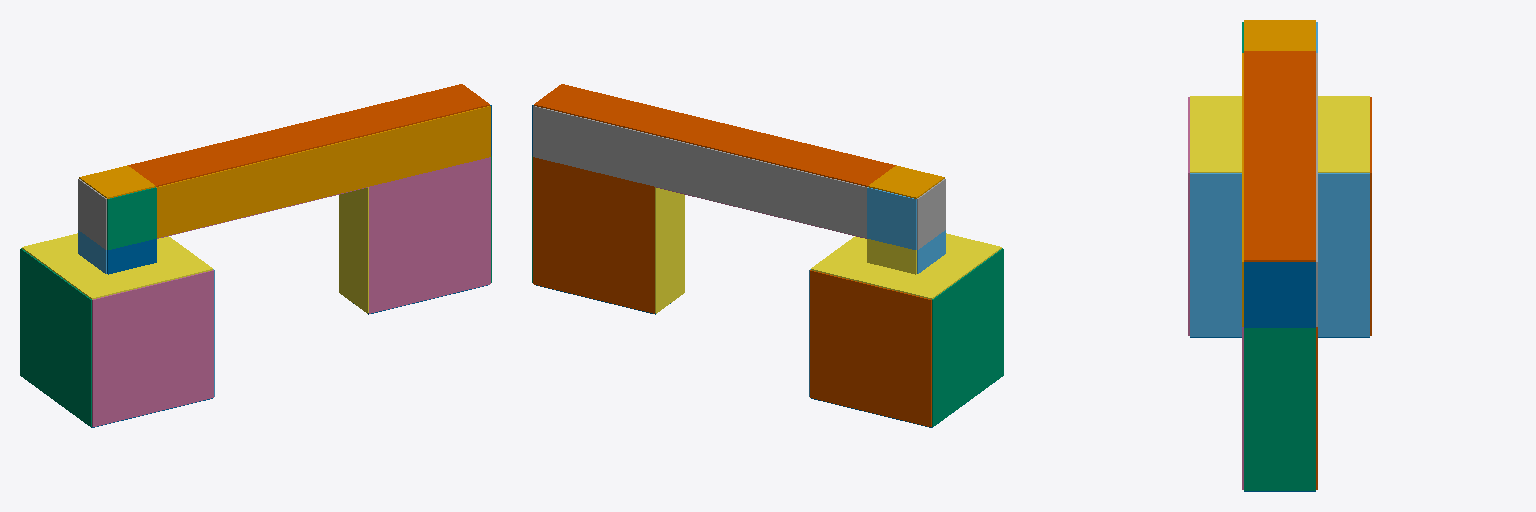
--- Facts derived from the render (not from the file) ---
Views: 3 orthographic renders of the robot side by side, from view 1: azimuth 30°, elevation 25°; view 2: azimuth 150°, elevation 25°; view 3: azimuth 270°, elevation 25°.
Model robot with 53 links and 52 joints (2 continuous, 50 fixed), rooted at body, posed every joint at zero.
Visible links, largest first — view 1: arm_sensor_0_right, body_sensor_0_right, hand_1_sensor_0_right, arm_sensor_0_top, body_sensor_0_stop, body_sensor_0_top, hand_1_sensor_0_stop, joint_2_sensor_0_right, joint_2_sensor_0_stop, joint_2_sensor_0_top, joint_1_sensor_0_right, joint_1_sensor_0_stop; view 2: arm_sensor_0_left, body_sensor_0_left, hand_1_sensor_0_left, arm_sensor_0_top, body_sensor_0_stop, body_sensor_0_top, hand_1_sensor_0_stop, joint_2_sensor_0_left, joint_2_sensor_0_stop, joint_2_sensor_0_top, joint_1_sensor_0_left, joint_1_sensor_0_stop; view 3: body_sensor_0_start, arm_sensor_0_top, hand_1_sensor_0_start, body_sensor_0_top, arm_sensor_0_start, joint_2_sensor_0_top, arm_sensor_0_left, arm_sensor_0_right.
Link boxes in pixels (left/top/right/bottom): arm_sensor_0_right: left=156, top=106, right=490, bottom=237; body_sensor_0_right: left=92, top=270, right=213, bottom=426; hand_1_sensor_0_right: left=369, top=157, right=490, bottom=313; arm_sensor_0_top: left=128, top=84, right=489, bottom=186; body_sensor_0_stop: left=20, top=248, right=91, bottom=426; body_sensor_0_top: left=22, top=233, right=212, bottom=299; hand_1_sensor_0_stop: left=339, top=187, right=368, bottom=313; joint_2_sensor_0_right: left=107, top=187, right=156, bottom=249; joint_2_sensor_0_stop: left=78, top=179, right=106, bottom=249; joint_2_sensor_0_top: left=79, top=165, right=155, bottom=198; joint_1_sensor_0_right: left=107, top=239, right=156, bottom=274; joint_1_sensor_0_stop: left=78, top=230, right=106, bottom=273; arm_sensor_0_left: left=533, top=106, right=867, bottom=237; body_sensor_0_left: left=810, top=270, right=931, bottom=426; hand_1_sensor_0_left: left=533, top=157, right=654, bottom=313; arm_sensor_0_top: left=534, top=84, right=895, bottom=186; body_sensor_0_stop: left=932, top=248, right=1003, bottom=426; body_sensor_0_top: left=811, top=233, right=1001, bottom=299; hand_1_sensor_0_stop: left=655, top=187, right=684, bottom=313; joint_2_sensor_0_left: left=867, top=187, right=916, bottom=249; joint_2_sensor_0_stop: left=917, top=179, right=945, bottom=249; joint_2_sensor_0_top: left=868, top=165, right=944, bottom=198; joint_1_sensor_0_left: left=867, top=239, right=916, bottom=274; joint_1_sensor_0_stop: left=917, top=230, right=945, bottom=273; body_sensor_0_start: left=1190, top=173, right=1369, bottom=336; arm_sensor_0_top: left=1244, top=51, right=1315, bottom=261; hand_1_sensor_0_start: left=1244, top=328, right=1315, bottom=490; body_sensor_0_top: left=1190, top=96, right=1369, bottom=172; arm_sensor_0_start: left=1244, top=262, right=1315, bottom=327; joint_2_sensor_0_top: left=1244, top=20, right=1315, bottom=50; arm_sensor_0_left: left=1316, top=53, right=1317, bottom=326; arm_sensor_0_right: left=1242, top=53, right=1243, bottom=326.
Bounding box of the posed robot: 3.47 × 1.02 × 1.62 m (x, y, z).
Geometry: primitives only (box / cylinder / sphere), no mesh files.

robot.urdf — robot:
<?xml version="1.0"?>
    <robot name="robot">


    <!-- body -->
    <link name="body">
        <inertial>
            <origin xyz="0 0 0" rpy="0 0 0"/>
            <mass value="100"/>
            <inertia ixx=".1" ixy=".1" ixz=".1" iyy=".1" iyz=".1" izz=".1"/>
        </inertial>
        <visual>
            <origin xyz="0 0 0" rpy="0 0 0"/>
            <geometry>
                <box size="1 1 1"/>
            </geometry>
        </visual>
        <collision>
            <origin xyz="0 0 0" rpy="0 0 0"/>
            <geometry>
                <box size="1 1 1"/>
            </geometry>
        </collision>
    </link>


    <!-- body_sensor_0_start -->
    <link name="body_sensor_0_start">
        <inertial>
            <origin xyz="0 0 0" rpy="0 0 0"/>
            <mass value="0"/>
            <inertia ixx=".1" ixy=".1" ixz=".1" iyy=".1" iyz=".1" izz=".1"/>
        </inertial>
        <visual>
            <origin xyz="0 0 0" rpy="0 0 0"/>
            <geometry>
                <box size="0.02 1 1"/>
            </geometry>
        </visual>
        <collision>
            <origin xyz="0 0 0" rpy="0 0 0"/>
            <geometry>
                <box size="0.02 1 1"/>
            </geometry>
        </collision>
    </link>
    <!-- Joint: body, body_sensor_0_start -->
    <joint name="body_body_sensor_0_start_joint" type="fixed">
        <parent link="body"/>
        <child link="body_sensor_0_start"/>
        <origin xyz="0.5 0 0"
                rpy="0 0 0"/>
        <axis xyz="0 0 1"/>
        
    </joint>


    <!-- body_sensor_0_stop -->
    <link name="body_sensor_0_stop">
        <inertial>
            <origin xyz="0 0 0" rpy="0 0 0"/>
            <mass value="0"/>
            <inertia ixx=".1" ixy=".1" ixz=".1" iyy=".1" iyz=".1" izz=".1"/>
        </inertial>
        <visual>
            <origin xyz="0 0 0" rpy="0 0 0"/>
            <geometry>
                <box size="0.02 1 1"/>
            </geometry>
        </visual>
        <collision>
            <origin xyz="0 0 0" rpy="0 0 0"/>
            <geometry>
                <box size="0.02 1 1"/>
            </geometry>
        </collision>
    </link>
    <!-- Joint: body, body_sensor_0_stop -->
    <joint name="body_body_sensor_0_stop_joint" type="fixed">
        <parent link="body"/>
        <child link="body_sensor_0_stop"/>
        <origin xyz="-0.5 0 0"
                rpy="0 0 0"/>
        <axis xyz="0 0 1"/>
        
    </joint>


    <!-- body_sensor_0_top -->
    <link name="body_sensor_0_top">
        <inertial>
            <origin xyz="0 0 0" rpy="0 0 0"/>
            <mass value="0"/>
            <inertia ixx=".1" ixy=".1" ixz=".1" iyy=".1" iyz=".1" izz=".1"/>
        </inertial>
        <visual>
            <origin xyz="0 0 0" rpy="0 0 0"/>
            <geometry>
                <box size="1.0 1 0.02"/>
            </geometry>
        </visual>
        <collision>
            <origin xyz="0 0 0" rpy="0 0 0"/>
            <geometry>
                <box size="1.0 1 0.02"/>
            </geometry>
        </collision>
    </link>
    <!-- Joint: body, body_sensor_0_top -->
    <joint name="body_body_sensor_0_top_joint" type="fixed">
        <parent link="body"/>
        <child link="body_sensor_0_top"/>
        <origin xyz="0 0 0.5"
                rpy="0 0 0"/>
        <axis xyz="0 0 1"/>
        
    </joint>


    <!-- body_sensor_0_bottom -->
    <link name="body_sensor_0_bottom">
        <inertial>
            <origin xyz="0 0 0" rpy="0 0 0"/>
            <mass value="0"/>
            <inertia ixx=".1" ixy=".1" ixz=".1" iyy=".1" iyz=".1" izz=".1"/>
        </inertial>
        <visual>
            <origin xyz="0 0 0" rpy="0 0 0"/>
            <geometry>
                <box size="1.0 1 0.02"/>
            </geometry>
        </visual>
        <collision>
            <origin xyz="0 0 0" rpy="0 0 0"/>
            <geometry>
                <box size="1.0 1 0.02"/>
            </geometry>
        </collision>
    </link>
    <!-- Joint: body, body_sensor_0_bottom -->
    <joint name="body_body_sensor_0_bottom_joint" type="fixed">
        <parent link="body"/>
        <child link="body_sensor_0_bottom"/>
        <origin xyz="0 0 -0.5"
                rpy="0 0 0"/>
        <axis xyz="0 0 1"/>
        
    </joint>


    <!-- body_sensor_0_left -->
    <link name="body_sensor_0_left">
        <inertial>
            <origin xyz="0 0 0" rpy="0 0 0"/>
            <mass value="0"/>
            <inertia ixx=".1" ixy=".1" ixz=".1" iyy=".1" iyz=".1" izz=".1"/>
        </inertial>
        <visual>
            <origin xyz="0 0 0" rpy="0 0 0"/>
            <geometry>
                <box size="1.0 0.02 1"/>
            </geometry>
        </visual>
        <collision>
            <origin xyz="0 0 0" rpy="0 0 0"/>
            <geometry>
                <box size="1.0 0.02 1"/>
            </geometry>
        </collision>
    </link>
    <!-- Joint: body, body_sensor_0_left -->
    <joint name="body_body_sensor_0_left_joint" type="fixed">
        <parent link="body"/>
        <child link="body_sensor_0_left"/>
        <origin xyz="0 0.5 0"
                rpy="0 0 0"/>
        <axis xyz="0 0 1"/>
        
    </joint>


    <!-- body_sensor_0_right -->
    <link name="body_sensor_0_right">
        <inertial>
            <origin xyz="0 0 0" rpy="0 0 0"/>
            <mass value="0"/>
            <inertia ixx=".1" ixy=".1" ixz=".1" iyy=".1" iyz=".1" izz=".1"/>
        </inertial>
        <visual>
            <origin xyz="0 0 0" rpy="0 0 0"/>
            <geometry>
                <box size="1.0 0.02 1"/>
            </geometry>
        </visual>
        <collision>
            <origin xyz="0 0 0" rpy="0 0 0"/>
            <geometry>
                <box size="1.0 0.02 1"/>
            </geometry>
        </collision>
    </link>
    <!-- Joint: body, body_sensor_0_right -->
    <joint name="body_body_sensor_0_right_joint" type="fixed">
        <parent link="body"/>
        <child link="body_sensor_0_right"/>
        <origin xyz="0 -0.5 0"
                rpy="0 0 0"/>
        <axis xyz="0 0 1"/>
        
    </joint>


    <!-- joint_1 -->
    <link name="joint_1">
        <inertial>
            <origin xyz="0 0 0" rpy="0 0 0"/>
            <mass value="2"/>
            <inertia ixx=".1" ixy=".1" ixz=".1" iyy=".1" iyz=".1" izz=".1"/>
        </inertial>
        <visual>
            <origin xyz="0 0 0" rpy="0 0 0"/>
            <geometry>
                <box size="0.4 0.4 0.2"/>
            </geometry>
        </visual>
        <collision>
            <origin xyz="0 0 0" rpy="0 0 0"/>
            <geometry>
                <box size="0.4 0.4 0.2"/>
            </geometry>
        </collision>
    </link>


    <!-- joint_1_sensor_0_start -->
    <link name="joint_1_sensor_0_start">
        <inertial>
            <origin xyz="0 0 0" rpy="0 0 0"/>
            <mass value="0"/>
            <inertia ixx=".1" ixy=".1" ixz=".1" iyy=".1" iyz=".1" izz=".1"/>
        </inertial>
        <visual>
            <origin xyz="0 0 0" rpy="0 0 0"/>
            <geometry>
                <box size="0.02 0.4 0.2"/>
            </geometry>
        </visual>
        <collision>
            <origin xyz="0 0 0" rpy="0 0 0"/>
            <geometry>
                <box size="0.02 0.4 0.2"/>
            </geometry>
        </collision>
    </link>
    <!-- Joint: joint_1, joint_1_sensor_0_start -->
    <joint name="joint_1_joint_1_sensor_0_start_joint" type="fixed">
        <parent link="joint_1"/>
        <child link="joint_1_sensor_0_start"/>
        <origin xyz="0.2 0 0"
                rpy="0 0 0"/>
        <axis xyz="0 0 1"/>
        
    </joint>


    <!-- joint_1_sensor_0_stop -->
    <link name="joint_1_sensor_0_stop">
        <inertial>
            <origin xyz="0 0 0" rpy="0 0 0"/>
            <mass value="0"/>
            <inertia ixx=".1" ixy=".1" ixz=".1" iyy=".1" iyz=".1" izz=".1"/>
        </inertial>
        <visual>
            <origin xyz="0 0 0" rpy="0 0 0"/>
            <geometry>
                <box size="0.02 0.4 0.2"/>
            </geometry>
        </visual>
        <collision>
            <origin xyz="0 0 0" rpy="0 0 0"/>
            <geometry>
                <box size="0.02 0.4 0.2"/>
            </geometry>
        </collision>
    </link>
    <!-- Joint: joint_1, joint_1_sensor_0_stop -->
    <joint name="joint_1_joint_1_sensor_0_stop_joint" type="fixed">
        <parent link="joint_1"/>
        <child link="joint_1_sensor_0_stop"/>
        <origin xyz="-0.2 0 0"
                rpy="0 0 0"/>
        <axis xyz="0 0 1"/>
        
    </joint>


    <!-- joint_1_sensor_0_top -->
    <link name="joint_1_sensor_0_top">
        <inertial>
            <origin xyz="0 0 0" rpy="0 0 0"/>
            <mass value="0"/>
            <inertia ixx=".1" ixy=".1" ixz=".1" iyy=".1" iyz=".1" izz=".1"/>
        </inertial>
        <visual>
            <origin xyz="0 0 0" rpy="0 0 0"/>
            <geometry>
                <box size="0.4 0.4 0.02"/>
            </geometry>
        </visual>
        <collision>
            <origin xyz="0 0 0" rpy="0 0 0"/>
            <geometry>
                <box size="0.4 0.4 0.02"/>
            </geometry>
        </collision>
    </link>
    <!-- Joint: joint_1, joint_1_sensor_0_top -->
    <joint name="joint_1_joint_1_sensor_0_top_joint" type="fixed">
        <parent link="joint_1"/>
        <child link="joint_1_sensor_0_top"/>
        <origin xyz="0 0 0.1"
                rpy="0 0 0"/>
        <axis xyz="0 0 1"/>
        
    </joint>


    <!-- joint_1_sensor_0_left -->
    <link name="joint_1_sensor_0_left">
        <inertial>
            <origin xyz="0 0 0" rpy="0 0 0"/>
            <mass value="0"/>
            <inertia ixx=".1" ixy=".1" ixz=".1" iyy=".1" iyz=".1" izz=".1"/>
        </inertial>
        <visual>
            <origin xyz="0 0 0" rpy="0 0 0"/>
            <geometry>
                <box size="0.4 0.02 0.2"/>
            </geometry>
        </visual>
        <collision>
            <origin xyz="0 0 0" rpy="0 0 0"/>
            <geometry>
                <box size="0.4 0.02 0.2"/>
            </geometry>
        </collision>
    </link>
    <!-- Joint: joint_1, joint_1_sensor_0_left -->
    <joint name="joint_1_joint_1_sensor_0_left_joint" type="fixed">
        <parent link="joint_1"/>
        <child link="joint_1_sensor_0_left"/>
        <origin xyz="0 0.2 0"
                rpy="0 0 0"/>
        <axis xyz="0 0 1"/>
        
    </joint>


    <!-- joint_1_sensor_0_right -->
    <link name="joint_1_sensor_0_right">
        <inertial>
            <origin xyz="0 0 0" rpy="0 0 0"/>
            <mass value="0"/>
            <inertia ixx=".1" ixy=".1" ixz=".1" iyy=".1" iyz=".1" izz=".1"/>
        </inertial>
        <visual>
            <origin xyz="0 0 0" rpy="0 0 0"/>
            <geometry>
                <box size="0.4 0.02 0.2"/>
            </geometry>
        </visual>
        <collision>
            <origin xyz="0 0 0" rpy="0 0 0"/>
            <geometry>
                <box size="0.4 0.02 0.2"/>
            </geometry>
        </collision>
    </link>
    <!-- Joint: joint_1, joint_1_sensor_0_right -->
    <joint name="joint_1_joint_1_sensor_0_right_joint" type="fixed">
        <parent link="joint_1"/>
        <child link="joint_1_sensor_0_right"/>
        <origin xyz="0 -0.2 0"
                rpy="0 0 0"/>
        <axis xyz="0 0 1"/>
        
    </joint>
    <!-- Joint: body, joint_1 -->
    <joint name="body_joint_1_joint" type="continuous">
        <parent link="body"/>
        <child link="joint_1"/>
        <origin xyz="0 0 0.6"
                rpy="0 0 0"/>
        <axis xyz="0 0 1"/>
        <limit lower="0" upper="0" effort="0" velocity="0"/>
    </joint>


    <!-- joint_2 -->
    <link name="joint_2">
        <inertial>
            <origin xyz="0 0 0" rpy="0 0 0"/>
            <mass value="2"/>
            <inertia ixx=".1" ixy=".1" ixz=".1" iyy=".1" iyz=".1" izz=".1"/>
        </inertial>
        <visual>
            <origin xyz="0 0 0" rpy="0 0 0"/>
            <geometry>
                <box size="0.4 0.4 0.4"/>
            </geometry>
        </visual>
        <collision>
            <origin xyz="0 0 0" rpy="0 0 0"/>
            <geometry>
                <box size="0.4 0.4 0.4"/>
            </geometry>
        </collision>
    </link>


    <!-- joint_2_sensor_0_start -->
    <link name="joint_2_sensor_0_start">
        <inertial>
            <origin xyz="0 0 0" rpy="0 0 0"/>
            <mass value="0"/>
            <inertia ixx=".1" ixy=".1" ixz=".1" iyy=".1" iyz=".1" izz=".1"/>
        </inertial>
        <visual>
            <origin xyz="0 0 0" rpy="0 0 0"/>
            <geometry>
                <box size="0.02 0.4 0.4"/>
            </geometry>
        </visual>
        <collision>
            <origin xyz="0 0 0" rpy="0 0 0"/>
            <geometry>
                <box size="0.02 0.4 0.4"/>
            </geometry>
        </collision>
    </link>
    <!-- Joint: joint_2, joint_2_sensor_0_start -->
    <joint name="joint_2_joint_2_sensor_0_start_joint" type="fixed">
        <parent link="joint_2"/>
        <child link="joint_2_sensor_0_start"/>
        <origin xyz="0.2 0 0"
                rpy="0 0 0"/>
        <axis xyz="0 1 0"/>
        
    </joint>


    <!-- joint_2_sensor_0_stop -->
    <link name="joint_2_sensor_0_stop">
        <inertial>
            <origin xyz="0 0 0" rpy="0 0 0"/>
            <mass value="0"/>
            <inertia ixx=".1" ixy=".1" ixz=".1" iyy=".1" iyz=".1" izz=".1"/>
        </inertial>
        <visual>
            <origin xyz="0 0 0" rpy="0 0 0"/>
            <geometry>
                <box size="0.02 0.4 0.4"/>
            </geometry>
        </visual>
        <collision>
            <origin xyz="0 0 0" rpy="0 0 0"/>
            <geometry>
                <box size="0.02 0.4 0.4"/>
            </geometry>
        </collision>
    </link>
    <!-- Joint: joint_2, joint_2_sensor_0_stop -->
    <joint name="joint_2_joint_2_sensor_0_stop_joint" type="fixed">
        <parent link="joint_2"/>
        <child link="joint_2_sensor_0_stop"/>
        <origin xyz="-0.2 0 0"
                rpy="0 0 0"/>
        <axis xyz="0 1 0"/>
        
    </joint>


    <!-- joint_2_sensor_0_top -->
    <link name="joint_2_sensor_0_top">
        <inertial>
            <origin xyz="0 0 0" rpy="0 0 0"/>
            <mass value="0"/>
            <inertia ixx=".1" ixy=".1" ixz=".1" iyy=".1" iyz=".1" izz=".1"/>
        </inertial>
        <visual>
            <origin xyz="0 0 0" rpy="0 0 0"/>
            <geometry>
                <box size="0.4 0.4 0.02"/>
            </geometry>
        </visual>
        <collision>
            <origin xyz="0 0 0" rpy="0 0 0"/>
            <geometry>
                <box size="0.4 0.4 0.02"/>
            </geometry>
        </collision>
    </link>
    <!-- Joint: joint_2, joint_2_sensor_0_top -->
    <joint name="joint_2_joint_2_sensor_0_top_joint" type="fixed">
        <parent link="joint_2"/>
        <child link="joint_2_sensor_0_top"/>
        <origin xyz="0 0 0.2"
                rpy="0 0 0"/>
        <axis xyz="0 1 0"/>
        
    </joint>


    <!-- joint_2_sensor_0_left -->
    <link name="joint_2_sensor_0_left">
        <inertial>
            <origin xyz="0 0 0" rpy="0 0 0"/>
            <mass value="0"/>
            <inertia ixx=".1" ixy=".1" ixz=".1" iyy=".1" iyz=".1" izz=".1"/>
        </inertial>
        <visual>
            <origin xyz="0 0 0" rpy="0 0 0"/>
            <geometry>
                <box size="0.4 0.02 0.4"/>
            </geometry>
        </visual>
        <collision>
            <origin xyz="0 0 0" rpy="0 0 0"/>
            <geometry>
                <box size="0.4 0.02 0.4"/>
            </geometry>
        </collision>
    </link>
    <!-- Joint: joint_2, joint_2_sensor_0_left -->
    <joint name="joint_2_joint_2_sensor_0_left_joint" type="fixed">
        <parent link="joint_2"/>
        <child link="joint_2_sensor_0_left"/>
        <origin xyz="0 0.2 0"
                rpy="0 0 0"/>
        <axis xyz="0 1 0"/>
        
    </joint>


    <!-- joint_2_sensor_0_right -->
    <link name="joint_2_sensor_0_right">
        <inertial>
            <origin xyz="0 0 0" rpy="0 0 0"/>
            <mass value="0"/>
            <inertia ixx=".1" ixy=".1" ixz=".1" iyy=".1" iyz=".1" izz=".1"/>
        </inertial>
        <visual>
            <origin xyz="0 0 0" rpy="0 0 0"/>
            <geometry>
                <box size="0.4 0.02 0.4"/>
            </geometry>
        </visual>
        <collision>
            <origin xyz="0 0 0" rpy="0 0 0"/>
            <geometry>
                <box size="0.4 0.02 0.4"/>
            </geometry>
        </collision>
    </link>
    <!-- Joint: joint_2, joint_2_sensor_0_right -->
    <joint name="joint_2_joint_2_sensor_0_right_joint" type="fixed">
        <parent link="joint_2"/>
        <child link="joint_2_sensor_0_right"/>
        <origin xyz="0 -0.2 0"
                rpy="0 0 0"/>
        <axis xyz="0 1 0"/>
        
    </joint>
    <!-- Joint: joint_1, joint_2 -->
    <joint name="joint_1_joint_2_joint" type="continuous">
        <parent link="joint_1"/>
        <child link="joint_2"/>
        <origin xyz="0 0 0.3"
                rpy="0 0 0"/>
        <axis xyz="0 1 0"/>
        <limit lower="0" upper="0" effort="0" velocity="0"/>
    </joint>


    <!-- arm -->
    <link name="arm">
        <inertial>
            <origin xyz="0 0 0" rpy="0 0 0"/>
            <mass value="2"/>
            <inertia ixx=".1" ixy=".1" ixz=".1" iyy=".1" iyz=".1" izz=".1"/>
        </inertial>
        <visual>
            <origin xyz="0 0 0" rpy="0 0 0"/>
            <geometry>
                <box size="2.75 0.4 0.4"/>
            </geometry>
        </visual>
        <collision>
            <origin xyz="0 0 0" rpy="0 0 0"/>
            <geometry>
                <box size="2.75 0.4 0.4"/>
            </geometry>
        </collision>
    </link>


    <!-- arm_sensor_0_start -->
    <link name="arm_sensor_0_start">
        <inertial>
            <origin xyz="0 0 0" rpy="0 0 0"/>
            <mass value="0"/>
            <inertia ixx=".1" ixy=".1" ixz=".1" iyy=".1" iyz=".1" izz=".1"/>
        </inertial>
        <visual>
            <origin xyz="0 0 0" rpy="0 0 0"/>
            <geometry>
                <box size="0.02 0.4 0.4"/>
            </geometry>
        </visual>
        <collision>
            <origin xyz="0 0 0" rpy="0 0 0"/>
            <geometry>
                <box size="0.02 0.4 0.4"/>
            </geometry>
        </collision>
    </link>
    <!-- Joint: arm, arm_sensor_0_start -->
    <joint name="arm_arm_sensor_0_start_joint" type="fixed">
        <parent link="arm"/>
        <child link="arm_sensor_0_start"/>
        <origin xyz="1.375 0 0"
                rpy="0 0 0"/>
        <axis xyz="0 1 0"/>
        
    </joint>


    <!-- arm_sensor_0_top -->
    <link name="arm_sensor_0_top">
        <inertial>
            <origin xyz="0 0 0" rpy="0 0 0"/>
            <mass value="0"/>
            <inertia ixx=".1" ixy=".1" ixz=".1" iyy=".1" iyz=".1" izz=".1"/>
        </inertial>
        <visual>
            <origin xyz="0 0 0" rpy="0 0 0"/>
            <geometry>
                <box size="2.75 0.4 0.02"/>
            </geometry>
        </visual>
        <collision>
            <origin xyz="0 0 0" rpy="0 0 0"/>
            <geometry>
                <box size="2.75 0.4 0.02"/>
            </geometry>
        </collision>
    </link>
    <!-- Joint: arm, arm_sensor_0_top -->
    <joint name="arm_arm_sensor_0_top_joint" type="fixed">
        <parent link="arm"/>
        <child link="arm_sensor_0_top"/>
        <origin xyz="0 0 0.2"
                rpy="0 0 0"/>
        <axis xyz="0 1 0"/>
        
    </joint>


    <!-- arm_sensor_0_bottom -->
    <link name="arm_sensor_0_bottom">
        <inertial>
            <origin xyz="0 0 0" rpy="0 0 0"/>
            <mass value="0"/>
            <inertia ixx=".1" ixy=".1" ixz=".1" iyy=".1" iyz=".1" izz=".1"/>
        </inertial>
        <visual>
            <origin xyz="0 0 0" rpy="0 0 0"/>
            <geometry>
                <box size="2.75 0.4 0.02"/>
            </geometry>
        </visual>
        <collision>
            <origin xyz="0 0 0" rpy="0 0 0"/>
            <geometry>
                <box size="2.75 0.4 0.02"/>
            </geometry>
        </collision>
    </link>
    <!-- Joint: arm, arm_sensor_0_bottom -->
    <joint name="arm_arm_sensor_0_bottom_joint" type="fixed">
        <parent link="arm"/>
        <child link="arm_sensor_0_bottom"/>
        <origin xyz="0 0 -0.2"
                rpy="0 0 0"/>
        <axis xyz="0 1 0"/>
        
    </joint>


    <!-- arm_sensor_0_left -->
    <link name="arm_sensor_0_left">
        <inertial>
            <origin xyz="0 0 0" rpy="0 0 0"/>
            <mass value="0"/>
            <inertia ixx=".1" ixy=".1" ixz=".1" iyy=".1" iyz=".1" izz=".1"/>
        </inertial>
        <visual>
            <origin xyz="0 0 0" rpy="0 0 0"/>
            <geometry>
                <box size="2.75 0.02 0.4"/>
            </geometry>
        </visual>
        <collision>
            <origin xyz="0 0 0" rpy="0 0 0"/>
            <geometry>
                <box size="2.75 0.02 0.4"/>
            </geometry>
        </collision>
    </link>
    <!-- Joint: arm, arm_sensor_0_left -->
    <joint name="arm_arm_sensor_0_left_joint" type="fixed">
        <parent link="arm"/>
        <child link="arm_sensor_0_left"/>
        <origin xyz="0 0.2 0"
                rpy="0 0 0"/>
        <axis xyz="0 1 0"/>
        
    </joint>


    <!-- arm_sensor_0_right -->
    <link name="arm_sensor_0_right">
        <inertial>
            <origin xyz="0 0 0" rpy="0 0 0"/>
            <mass value="0"/>
            <inertia ixx=".1" ixy=".1" ixz=".1" iyy=".1" iyz=".1" izz=".1"/>
        </inertial>
        <visual>
            <origin xyz="0 0 0" rpy="0 0 0"/>
            <geometry>
                <box size="2.75 0.02 0.4"/>
            </geometry>
        </visual>
        <collision>
            <origin xyz="0 0 0" rpy="0 0 0"/>
            <geometry>
                <box size="2.75 0.02 0.4"/>
            </geometry>
        </collision>
    </link>
    <!-- Joint: arm, arm_sensor_0_right -->
    <joint name="arm_arm_sensor_0_right_joint" type="fixed">
        <parent link="arm"/>
        <child link="arm_sensor_0_right"/>
        <origin xyz="0 -0.2 0"
                rpy="0 0 0"/>
        <axis xyz="0 1 0"/>
        
    </joint>
    <!-- Joint: joint_2, arm -->
    <joint name="joint_2_arm_joint" type="fixed">
        <parent link="joint_2"/>
        <child link="arm"/>
        <origin xyz="1.575 0 0"
                rpy="0 0 0"/>
        <axis xyz="0 1 0"/>
        
    </joint>


    <!-- hand_1 -->
    <link name="hand_1">
        <inertial>
            <origin xyz="0 0 0" rpy="0 0 0"/>
            <mass value="2"/>
            <inertia ixx=".1" ixy=".1" ixz=".1" iyy=".1" iyz=".1" izz=".1"/>
        </inertial>
        <visual>
            <origin xyz="0 0 0" rpy="0 0 0"/>
            <geometry>
                <box size="1 0.4 1"/>
            </geometry>
        </visual>
        <collision>
            <origin xyz="0 0 0" rpy="0 0 0"/>
            <geometry>
                <box size="1 0.4 1"/>
            </geometry>
        </collision>
    </link>


    <!-- hand_1_sensor_0_start -->
    <link name="hand_1_sensor_0_start">
        <inertial>
            <origin xyz="0 0 0" rpy="0 0 0"/>
            <mass value="0"/>
            <inertia ixx=".1" ixy=".1" ixz=".1" iyy=".1" iyz=".1" izz=".1"/>
        </inertial>
        <visual>
            <origin xyz="0 0 0" rpy="0 0 0"/>
            <geometry>
                <box size="0.02 0.4 1"/>
            </geometry>
        </visual>
        <collision>
            <origin xyz="0 0 0" rpy="0 0 0"/>
            <geometry>
                <box size="0.02 0.4 1"/>
            </geometry>
        </collision>
    </link>
    <!-- Joint: hand_1, hand_1_sensor_0_start -->
    <joint name="hand_1_hand_1_sensor_0_start_joint" type="fixed">
        <parent link="hand_1"/>
        <child link="hand_1_sensor_0_start"/>
        <origin xyz="0.5 0 0"
                rpy="0 0 0"/>
        <axis xyz="0 1 0"/>
        
    </joint>


    <!-- hand_1_sensor_0_stop -->
    <link name="hand_1_sensor_0_stop">
        <inertial>
            <origin xyz="0 0 0" rpy="0 0 0"/>
            <mass value="0"/>
            <inertia ixx=".1" ixy=".1" ixz=".1" iyy=".1" iyz=".1" izz=".1"/>
        </inertial>
        <visual>
            <origin xyz="0 0 0" rpy="0 0 0"/>
            <geometry>
                <box size="0.02 0.4 1"/>
            </geometry>
        </visual>
        <collision>
            <origin xyz="0 0 0" rpy="0 0 0"/>
            <geometry>
                <box size="0.02 0.4 1"/>
            </geometry>
        </collision>
    </link>
    <!-- Joint: hand_1, hand_1_sensor_0_stop -->
    <joint name="hand_1_hand_1_sensor_0_stop_joint" type="fixed">
        <parent link="hand_1"/>
        <child link="hand_1_sensor_0_stop"/>
        <origin xyz="-0.5 0 0"
                rpy="0 0 0"/>
        <axis xyz="0 1 0"/>
        
    </joint>


    <!-- hand_1_sensor_0_bottom -->
    <link name="hand_1_sensor_0_bottom">
        <inertial>
            <origin xyz="0 0 0" rpy="0 0 0"/>
            <mass value="0"/>
            <inertia ixx=".1" ixy=".1" ixz=".1" iyy=".1" iyz=".1" izz=".1"/>
        </inertial>
        <visual>
            <origin xyz="0 0 0" rpy="0 0 0"/>
            <geometry>
                <box size="1.0 0.4 0.02"/>
            </geometry>
        </visual>
        <collision>
            <origin xyz="0 0 0" rpy="0 0 0"/>
            <geometry>
                <box size="1.0 0.4 0.02"/>
            </geometry>
        </collision>
    </link>
    <!-- Joint: hand_1, hand_1_sensor_0_bottom -->
    <joint name="hand_1_hand_1_sensor_0_bottom_joint" type="fixed">
        <parent link="hand_1"/>
        <child link="hand_1_sensor_0_bottom"/>
        <origin xyz="0 0 -0.5"
                rpy="0 0 0"/>
        <axis xyz="0 1 0"/>
        
    </joint>


    <!-- hand_1_sensor_0_left -->
    <link name="hand_1_sensor_0_left">
        <inertial>
            <origin xyz="0 0 0" rpy="0 0 0"/>
            <mass value="0"/>
            <inertia ixx=".1" ixy=".1" ixz=".1" iyy=".1" iyz=".1" izz=".1"/>
        </inertial>
        <visual>
            <origin xyz="0 0 0" rpy="0 0 0"/>
            <geometry>
                <box size="1.0 0.02 1"/>
            </geometry>
        </visual>
        <collision>
            <origin xyz="0 0 0" rpy="0 0 0"/>
            <geometry>
                <box size="1.0 0.02 1"/>
            </geometry>
        </collision>
    </link>
    <!-- Joint: hand_1, hand_1_sensor_0_left -->
    <joint name="hand_1_hand_1_sensor_0_left_joint" type="fixed">
        <parent link="hand_1"/>
        <child link="hand_1_sensor_0_left"/>
        <origin xyz="0 0.2 0"
                rpy="0 0 0"/>
        <axis xyz="0 1 0"/>
        
    </joint>


    <!-- hand_1_sensor_0_right -->
    <link name="hand_1_sensor_0_right">
        <inertial>
            <origin xyz="0 0 0" rpy="0 0 0"/>
            <mass value="0"/>
            <inertia ixx=".1" ixy=".1" ixz=".1" iyy=".1" iyz=".1" izz=".1"/>
        </inertial>
        <visual>
            <origin xyz="0 0 0" rpy="0 0 0"/>
            <geometry>
                <box size="1.0 0.02 1"/>
            </geometry>
        </visual>
        <collision>
            <origin xyz="0 0 0" rpy="0 0 0"/>
            <geometry>
                <box size="1.0 0.02 1"/>
            </geometry>
        </collision>
    </link>
    <!-- Joint: hand_1, hand_1_sensor_0_right -->
    <joint name="hand_1_hand_1_sensor_0_right_joint" type="fixed">
        <parent link="hand_1"/>
        <child link="hand_1_sensor_0_right"/>
        <origin xyz="0 -0.2 0"
                rpy="0 0 0"/>
        <axis xyz="0 1 0"/>
        
    </joint>
    <!-- Joint: arm, hand_1 -->
    <joint name="arm_hand_1_joint" type="fixed">
        <parent link="arm"/>
        <child link="hand_1"/>
        <origin xyz="0.875 0 -0.7"
                rpy="0 0 0"/>
        <axis xyz="0 1 0"/>
        
    </joint>


    <!-- body_face_front_0 -->
    <link name="body_face_front_0">
        <inertial>
            <origin xyz="0 0 0" rpy="0 0 0"/>
            <mass value="0"/>
            <inertia ixx=".1" ixy=".1" ixz=".1" iyy=".1" iyz=".1" izz=".1"/>
        </inertial>
        <visual>
            <origin xyz="0 0 0" rpy="0 0 0"/>
            <geometry>
                <box size="0.002 0.1111111111111111 0.1111111111111111"/>
            </geometry>
        </visual>
        <collision>
            <origin xyz="0 0 0" rpy="0 0 0"/>
            <geometry>
                <box size="0.002 0.1111111111111111 0.1111111111111111"/>
            </geometry>
        </collision>
    </link>
    <!-- Joint: body, body_face_front_0 -->
    <joint name="body_body_face_front_0_joint" type="fixed">
        <parent link="body"/>
        <child link="body_face_front_0"/>
        <origin xyz="0.501 -0.33333333333333337 0.11111111111111116"
                rpy="0 0 0"/>
        <axis xyz="0 0 1"/>
        
    </joint>


    <!-- body_face_front_1 -->
    <link name="body_face_front_1">
        <inertial>
            <origin xyz="0 0 0" rpy="0 0 0"/>
            <mass value="0"/>
            <inertia ixx=".1" ixy=".1" ixz=".1" iyy=".1" iyz=".1" izz=".1"/>
        </inertial>
        <visual>
            <origin xyz="0 0 0" rpy="0 0 0"/>
            <geometry>
                <box size="0.002 0.1111111111111111 0.1111111111111111"/>
            </geometry>
        </visual>
        <collision>
            <origin xyz="0 0 0" rpy="0 0 0"/>
            <geometry>
                <box size="0.002 0.1111111111111111 0.1111111111111111"/>
            </geometry>
        </collision>
    </link>
    <!-- Joint: body, body_face_front_1 -->
    <joint name="body_body_face_front_1_joint" type="fixed">
        <parent link="body"/>
        <child link="body_face_front_1"/>
        <origin xyz="0.501 -0.2222222222222222 0.2222222222222222"
                rpy="0 0 0"/>
        <axis xyz="0 0 1"/>
        
    </joint>


    <!-- body_face_front_2 -->
    <link name="body_face_front_2">
        <inertial>
            <origin xyz="0 0 0" rpy="0 0 0"/>
            <mass value="0"/>
            <inertia ixx=".1" ixy=".1" ixz=".1" iyy=".1" iyz=".1" izz=".1"/>
        </inertial>
        <visual>
            <origin xyz="0 0 0" rpy="0 0 0"/>
            <geometry>
                <box size="0.002 0.1111111111111111 0.1111111111111111"/>
            </geometry>
        </visual>
        <collision>
            <origin xyz="0 0 0" rpy="0 0 0"/>
            <geometry>
                <box size="0.002 0.1111111111111111 0.1111111111111111"/>
            </geometry>
        </collision>
    </link>
    <!-- Joint: body, body_face_front_2 -->
    <joint name="body_body_face_front_2_joint" type="fixed">
        <parent link="body"/>
        <child link="body_face_front_2"/>
        <origin xyz="0.501 -0.1111111111111111 0.11111111111111116"
                rpy="0 0 0"/>
        <axis xyz="0 0 1"/>
        
    </joint>


    <!-- body_face_front_3 -->
    <link name="body_face_front_3">
        <inertial>
            <origin xyz="0 0 0" rpy="0 0 0"/>
            <mass value="0"/>
            <inertia ixx=".1" ixy=".1" ixz=".1" iyy=".1" iyz=".1" izz=".1"/>
        </inertial>
        <visual>
            <origin xyz="0 0 0" rpy="0 0 0"/>
            <geometry>
                <box size="0.002 0.1111111111111111 0.1111111111111111"/>
            </geometry>
        </visual>
        <collision>
            <origin xyz="0 0 0" rpy="0 0 0"/>
            <geometry>
                <box size="0.002 0.1111111111111111 0.1111111111111111"/>
            </geometry>
        </collision>
    </link>
    <!-- Joint: body, body_face_front_3 -->
    <joint name="body_body_face_front_3_joint" type="fixed">
        <parent link="body"/>
        <child link="body_face_front_3"/>
        <origin xyz="0.501 -0.1111111111111111 -0.2222222222222222"
                rpy="0 0 0"/>
        <axis xyz="0 0 1"/>
        
    </joint>


    <!-- body_face_front_4 -->
    <link name="body_face_front_4">
        <inertial>
            <origin xyz="0 0 0" rpy="0 0 0"/>
            <mass value="0"/>
            <inertia ixx=".1" ixy=".1" ixz=".1" iyy=".1" iyz=".1" izz=".1"/>
        </inertial>
        <visual>
            <origin xyz="0 0 0" rpy="0 0 0"/>
            <geometry>
                <box size="0.002 0.1111111111111111 0.1111111111111111"/>
            </geometry>
        </visual>
        <collision>
            <origin xyz="0 0 0" rpy="0 0 0"/>
            <geometry>
                <box size="0.002 0.1111111111111111 0.1111111111111111"/>
            </geometry>
        </collision>
    </link>
    <!-- Joint: body, body_face_front_4 -->
    <joint name="body_body_face_front_4_joint" type="fixed">
        <parent link="body"/>
        <child link="body_face_front_4"/>
        <origin xyz="0.501 0.0 -0.2222222222222222"
                rpy="0 0 0"/>
        <axis xyz="0 0 1"/>
        
    </joint>


    <!-- body_face_front_5 -->
    <link name="body_face_front_5">
        <inertial>
            <origin xyz="0 0 0" rpy="0 0 0"/>
            <mass value="0"/>
            <inertia ixx=".1" ixy=".1" ixz=".1" iyy=".1" iyz=".1" izz=".1"/>
        </inertial>
        <visual>
            <origin xyz="0 0 0" rpy="0 0 0"/>
            <geometry>
                <box size="0.002 0.1111111111111111 0.1111111111111111"/>
            </geometry>
        </visual>
        <collision>
            <origin xyz="0 0 0" rpy="0 0 0"/>
            <geometry>
                <box size="0.002 0.1111111111111111 0.1111111111111111"/>
            </geometry>
        </collision>
    </link>
    <!-- Joint: body, body_face_front_5 -->
    <joint name="body_body_face_front_5_joint" type="fixed">
        <parent link="body"/>
        <child link="body_face_front_5"/>
        <origin xyz="0.501 0.11111111111111116 0.11111111111111116"
                rpy="0 0 0"/>
        <axis xyz="0 0 1"/>
        
    </joint>


    <!-- body_face_front_6 -->
    <link name="body_face_front_6">
        <inertial>
            <origin xyz="0 0 0" rpy="0 0 0"/>
            <mass value="0"/>
            <inertia ixx=".1" ixy=".1" ixz=".1" iyy=".1" iyz=".1" izz=".1"/>
        </inertial>
        <visual>
            <origin xyz="0 0 0" rpy="0 0 0"/>
            <geometry>
                <box size="0.002 0.1111111111111111 0.1111111111111111"/>
            </geometry>
        </visual>
        <collision>
            <origin xyz="0 0 0" rpy="0 0 0"/>
            <geometry>
                <box size="0.002 0.1111111111111111 0.1111111111111111"/>
            </geometry>
        </collision>
    </link>
    <!-- Joint: body, body_face_front_6 -->
    <joint name="body_body_face_front_6_joint" type="fixed">
        <parent link="body"/>
        <child link="body_face_front_6"/>
        <origin xyz="0.501 0.11111111111111116 -0.2222222222222222"
                rpy="0 0 0"/>
        <axis xyz="0 0 1"/>
        
    </joint>


    <!-- body_face_front_7 -->
    <link name="body_face_front_7">
        <inertial>
            <origin xyz="0 0 0" rpy="0 0 0"/>
            <mass value="0"/>
            <inertia ixx=".1" ixy=".1" ixz=".1" iyy=".1" iyz=".1" izz=".1"/>
        </inertial>
        <visual>
            <origin xyz="0 0 0" rpy="0 0 0"/>
            <geometry>
                <box size="0.002 0.1111111111111111 0.1111111111111111"/>
            </geometry>
        </visual>
        <collision>
            <origin xyz="0 0 0" rpy="0 0 0"/>
            <geometry>
                <box size="0.002 0.1111111111111111 0.1111111111111111"/>
            </geometry>
        </collision>
    </link>
    <!-- Joint: body, body_face_front_7 -->
    <joint name="body_body_face_front_7_joint" type="fixed">
        <parent link="body"/>
        <child link="body_face_front_7"/>
        <origin xyz="0.501 0.2222222222222222 0.2222222222222222"
                rpy="0 0 0"/>
        <axis xyz="0 0 1"/>
        
    </joint>


    <!-- body_face_front_8 -->
    <link name="body_face_front_8">
        <inertial>
            <origin xyz="0 0 0" rpy="0 0 0"/>
            <mass value="0"/>
            <inertia ixx=".1" ixy=".1" ixz=".1" iyy=".1" iyz=".1" izz=".1"/>
        </inertial>
        <visual>
            <origin xyz="0 0 0" rpy="0 0 0"/>
            <geometry>
                <box size="0.002 0.1111111111111111 0.1111111111111111"/>
            </geometry>
        </visual>
        <collision>
            <origin xyz="0 0 0" rpy="0 0 0"/>
            <geometry>
                <box size="0.002 0.1111111111111111 0.1111111111111111"/>
            </geometry>
        </collision>
    </link>
    <!-- Joint: body, body_face_front_8 -->
    <joint name="body_body_face_front_8_joint" type="fixed">
        <parent link="body"/>
        <child link="body_face_front_8"/>
        <origin xyz="0.501 0.33333333333333337 0.11111111111111116"
                rpy="0 0 0"/>
        <axis xyz="0 0 1"/>
        
    </joint>


    <!-- body_face_top_0 -->
    <link name="body_face_top_0">
        <inertial>
            <origin xyz="0 0 0" rpy="0 0 0"/>
            <mass value="0"/>
            <inertia ixx=".1" ixy=".1" ixz=".1" iyy=".1" iyz=".1" izz=".1"/>
        </inertial>
        <visual>
            <origin xyz="0 0 0" rpy="0 0 0"/>
            <geometry>
                <box size="0.1111111111111111 0.1111111111111111 0.002"/>
            </geometry>
        </visual>
        <collision>
            <origin xyz="0 0 0" rpy="0 0 0"/>
            <geometry>
                <box size="0.1111111111111111 0.1111111111111111 0.002"/>
            </geometry>
        </collision>
    </link>
    <!-- Joint: body, body_face_top_0 -->
    <joint name="body_body_face_top_0_joint" type="fixed">
        <parent link="body"/>
        <child link="body_face_top_0"/>
        <origin xyz="0.11111111111111116 -0.2222222222222222 0.501"
                rpy="0 0 0"/>
        <axis xyz="0 0 1"/>
        
    </joint>


    <!-- body_face_top_1 -->
    <link name="body_face_top_1">
        <inertial>
            <origin xyz="0 0 0" rpy="0 0 0"/>
            <mass value="0"/>
            <inertia ixx=".1" ixy=".1" ixz=".1" iyy=".1" iyz=".1" izz=".1"/>
        </inertial>
        <visual>
            <origin xyz="0 0 0" rpy="0 0 0"/>
            <geometry>
                <box size="0.1111111111111111 0.1111111111111111 0.002"/>
            </geometry>
        </visual>
        <collision>
            <origin xyz="0 0 0" rpy="0 0 0"/>
            <geometry>
                <box size="0.1111111111111111 0.1111111111111111 0.002"/>
            </geometry>
        </collision>
    </link>
    <!-- Joint: body, body_face_top_1 -->
    <joint name="body_body_face_top_1_joint" type="fixed">
        <parent link="body"/>
        <child link="body_face_top_1"/>
        <origin xyz="0.11111111111111116 -0.1111111111111111 0.501"
                rpy="0 0 0"/>
        <axis xyz="0 0 1"/>
        
    </joint>


    <!-- body_face_top_2 -->
    <link name="body_face_top_2">
        <inertial>
            <origin xyz="0 0 0" rpy="0 0 0"/>
            <mass value="0"/>
            <inertia ixx=".1" ixy=".1" ixz=".1" iyy=".1" iyz=".1" izz=".1"/>
        </inertial>
        <visual>
            <origin xyz="0 0 0" rpy="0 0 0"/>
            <geometry>
                <box size="0.1111111111111111 0.1111111111111111 0.002"/>
            </geometry>
        </visual>
        <collision>
            <origin xyz="0 0 0" rpy="0 0 0"/>
            <geometry>
                <box size="0.1111111111111111 0.1111111111111111 0.002"/>
            </geometry>
        </collision>
    </link>
    <!-- Joint: body, body_face_top_2 -->
    <joint name="body_body_face_top_2_joint" type="fixed">
        <parent link="body"/>
        <child link="body_face_top_2"/>
        <origin xyz="0.2222222222222222 -0.1111111111111111 0.501"
                rpy="0 0 0"/>
        <axis xyz="0 0 1"/>
        
    </joint>


    <!-- body_face_top_3 -->
    <link name="body_face_top_3">
        <inertial>
            <origin xyz="0 0 0" rpy="0 0 0"/>
            <mass value="0"/>
            <inertia ixx=".1" ixy=".1" ixz=".1" iyy=".1" iyz=".1" izz=".1"/>
        </inertial>
        <visual>
            <origin xyz="0 0 0" rpy="0 0 0"/>
            <geometry>
                <box size="0.1111111111111111 0.1111111111111111 0.002"/>
            </geometry>
        </visual>
        <collision>
            <origin xyz="0 0 0" rpy="0 0 0"/>
            <geometry>
                <box size="0.1111111111111111 0.1111111111111111 0.002"/>
            </geometry>
        </collision>
    </link>
    <!-- Joint: body, body_face_top_3 -->
    <joint name="body_body_face_top_3_joint" type="fixed">
        <parent link="body"/>
        <child link="body_face_top_3"/>
        <origin xyz="-0.33333333333333337 0.0 0.501"
                rpy="0 0 0"/>
        <axis xyz="0 0 1"/>
        
    </joint>


    <!-- body_face_top_4 -->
    <link name="body_face_top_4">
        <inertial>
            <origin xyz="0 0 0" rpy="0 0 0"/>
            <mass value="0"/>
            <inertia ixx=".1" ixy=".1" ixz=".1" iyy=".1" iyz=".1" izz=".1"/>
        </inertial>
        <visual>
            <origin xyz="0 0 0" rpy="0 0 0"/>
            <geometry>
                <box size="0.1111111111111111 0.1111111111111111 0.002"/>
            </geometry>
        </visual>
        <collision>
            <origin xyz="0 0 0" rpy="0 0 0"/>
            <geometry>
                <box size="0.1111111111111111 0.1111111111111111 0.002"/>
            </geometry>
        </collision>
    </link>
    <!-- Joint: body, body_face_top_4 -->
    <joint name="body_body_face_top_4_joint" type="fixed">
        <parent link="body"/>
        <child link="body_face_top_4"/>
        <origin xyz="-0.2222222222222222 0.0 0.501"
                rpy="0 0 0"/>
        <axis xyz="0 0 1"/>
        
    </joint>


    <!-- body_face_top_5 -->
    <link name="body_face_top_5">
        <inertial>
            <origin xyz="0 0 0" rpy="0 0 0"/>
            <mass value="0"/>
            <inertia ixx=".1" ixy=".1" ixz=".1" iyy=".1" iyz=".1" izz=".1"/>
        </inertial>
        <visual>
            <origin xyz="0 0 0" rpy="0 0 0"/>
            <geometry>
                <box size="0.1111111111111111 0.1111111111111111 0.002"/>
            </geometry>
        </visual>
        <collision>
            <origin xyz="0 0 0" rpy="0 0 0"/>
            <geometry>
                <box size="0.1111111111111111 0.1111111111111111 0.002"/>
            </geometry>
        </collision>
    </link>
    <!-- Joint: body, body_face_top_5 -->
    <joint name="body_body_face_top_5_joint" type="fixed">
        <parent link="body"/>
        <child link="body_face_top_5"/>
        <origin xyz="-0.1111111111111111 0.0 0.501"
                rpy="0 0 0"/>
        <axis xyz="0 0 1"/>
        
    </joint>


    <!-- body_face_top_6 -->
    <link name="body_face_top_6">
        <inertial>
            <origin xyz="0 0 0" rpy="0 0 0"/>
            <mass value="0"/>
            <inertia ixx=".1" ixy=".1" ixz=".1" iyy=".1" iyz=".1" izz=".1"/>
        </inertial>
        <visual>
            <origin xyz="0 0 0" rpy="0 0 0"/>
            <geometry>
                <box size="0.1111111111111111 0.1111111111111111 0.002"/>
            </geometry>
        </visual>
        <collision>
            <origin xyz="0 0 0" rpy="0 0 0"/>
            <geometry>
                <box size="0.1111111111111111 0.1111111111111111 0.002"/>
            </geometry>
        </collision>
    </link>
    <!-- Joint: body, body_face_top_6 -->
    <joint name="body_body_face_top_6_joint" type="fixed">
        <parent link="body"/>
        <child link="body_face_top_6"/>
        <origin xyz="0.0 0.0 0.501"
                rpy="0 0 0"/>
        <axis xyz="0 0 1"/>
        
    </joint>


    <!-- body_face_top_7 -->
    <link name="body_face_top_7">
        <inertial>
            <origin xyz="0 0 0" rpy="0 0 0"/>
            <mass value="0"/>
            <inertia ixx=".1" ixy=".1" ixz=".1" iyy=".1" iyz=".1" izz=".1"/>
        </inertial>
        <visual>
            <origin xyz="0 0 0" rpy="0 0 0"/>
            <geometry>
                <box size="0.1111111111111111 0.1111111111111111 0.002"/>
            </geometry>
        </visual>
        <collision>
            <origin xyz="0 0 0" rpy="0 0 0"/>
            <geometry>
                <box size="0.1111111111111111 0.1111111111111111 0.002"/>
            </geometry>
        </collision>
    </link>
    <!-- Joint: body, body_face_top_7 -->
    <joint name="body_body_face_top_7_joint" type="fixed">
        <parent link="body"/>
        <child link="body_face_top_7"/>
        <origin xyz="0.11111111111111116 0.0 0.501"
                rpy="0 0 0"/>
        <axis xyz="0 0 1"/>
        
    </joint>


    <!-- body_face_top_8 -->
    <link name="body_face_top_8">
        <inertial>
            <origin xyz="0 0 0" rpy="0 0 0"/>
            <mass value="0"/>
            <inertia ixx=".1" ixy=".1" ixz=".1" iyy=".1" iyz=".1" izz=".1"/>
        </inertial>
        <visual>
            <origin xyz="0 0 0" rpy="0 0 0"/>
            <geometry>
                <box size="0.1111111111111111 0.1111111111111111 0.002"/>
            </geometry>
        </visual>
        <collision>
            <origin xyz="0 0 0" rpy="0 0 0"/>
            <geometry>
                <box size="0.1111111111111111 0.1111111111111111 0.002"/>
            </geometry>
        </collision>
    </link>
    <!-- Joint: body, body_face_top_8 -->
    <joint name="body_body_face_top_8_joint" type="fixed">
        <parent link="body"/>
        <child link="body_face_top_8"/>
        <origin xyz="0.2222222222222222 0.0 0.501"
                rpy="0 0 0"/>
        <axis xyz="0 0 1"/>
        
    </joint>


    <!-- body_face_top_9 -->
    <link name="body_face_top_9">
        <inertial>
            <origin xyz="0 0 0" rpy="0 0 0"/>
            <mass value="0"/>
            <inertia ixx=".1" ixy=".1" ixz=".1" iyy=".1" iyz=".1" izz=".1"/>
        </inertial>
        <visual>
            <origin xyz="0 0 0" rpy="0 0 0"/>
            <geometry>
                <box size="0.1111111111111111 0.1111111111111111 0.002"/>
            </geometry>
        </visual>
        <collision>
            <origin xyz="0 0 0" rpy="0 0 0"/>
            <geometry>
                <box size="0.1111111111111111 0.1111111111111111 0.002"/>
            </geometry>
        </collision>
    </link>
    <!-- Joint: body, body_face_top_9 -->
    <joint name="body_body_face_top_9_joint" type="fixed">
        <parent link="body"/>
        <child link="body_face_top_9"/>
        <origin xyz="0.33333333333333337 0.0 0.501"
                rpy="0 0 0"/>
        <axis xyz="0 0 1"/>
        
    </joint>


    <!-- body_face_top_10 -->
    <link name="body_face_top_10">
        <inertial>
            <origin xyz="0 0 0" rpy="0 0 0"/>
            <mass value="0"/>
            <inertia ixx=".1" ixy=".1" ixz=".1" iyy=".1" iyz=".1" izz=".1"/>
        </inertial>
        <visual>
            <origin xyz="0 0 0" rpy="0 0 0"/>
            <geometry>
                <box size="0.1111111111111111 0.1111111111111111 0.002"/>
            </geometry>
        </visual>
        <collision>
            <origin xyz="0 0 0" rpy="0 0 0"/>
            <geometry>
                <box size="0.1111111111111111 0.1111111111111111 0.002"/>
            </geometry>
        </collision>
    </link>
    <!-- Joint: body, body_face_top_10 -->
    <joint name="body_body_face_top_10_joint" type="fixed">
        <parent link="body"/>
        <child link="body_face_top_10"/>
        <origin xyz="0.11111111111111116 0.11111111111111116 0.501"
                rpy="0 0 0"/>
        <axis xyz="0 0 1"/>
        
    </joint>


    <!-- body_face_top_11 -->
    <link name="body_face_top_11">
        <inertial>
            <origin xyz="0 0 0" rpy="0 0 0"/>
            <mass value="0"/>
            <inertia ixx=".1" ixy=".1" ixz=".1" iyy=".1" iyz=".1" izz=".1"/>
        </inertial>
        <visual>
            <origin xyz="0 0 0" rpy="0 0 0"/>
            <geometry>
                <box size="0.1111111111111111 0.1111111111111111 0.002"/>
            </geometry>
        </visual>
        <collision>
            <origin xyz="0 0 0" rpy="0 0 0"/>
            <geometry>
                <box size="0.1111111111111111 0.1111111111111111 0.002"/>
            </geometry>
        </collision>
    </link>
    <!-- Joint: body, body_face_top_11 -->
    <joint name="body_body_face_top_11_joint" type="fixed">
        <parent link="body"/>
        <child link="body_face_top_11"/>
        <origin xyz="0.2222222222222222 0.11111111111111116 0.501"
                rpy="0 0 0"/>
        <axis xyz="0 0 1"/>
        
    </joint>


    <!-- body_face_top_12 -->
    <link name="body_face_top_12">
        <inertial>
            <origin xyz="0 0 0" rpy="0 0 0"/>
            <mass value="0"/>
            <inertia ixx=".1" ixy=".1" ixz=".1" iyy=".1" iyz=".1" izz=".1"/>
        </inertial>
        <visual>
            <origin xyz="0 0 0" rpy="0 0 0"/>
            <geometry>
                <box size="0.1111111111111111 0.1111111111111111 0.002"/>
            </geometry>
        </visual>
        <collision>
            <origin xyz="0 0 0" rpy="0 0 0"/>
            <geometry>
                <box size="0.1111111111111111 0.1111111111111111 0.002"/>
            </geometry>
        </collision>
    </link>
    <!-- Joint: body, body_face_top_12 -->
    <joint name="body_body_face_top_12_joint" type="fixed">
        <parent link="body"/>
        <child link="body_face_top_12"/>
        <origin xyz="0.11111111111111116 0.2222222222222222 0.501"
                rpy="0 0 0"/>
        <axis xyz="0 0 1"/>
        
    </joint>


</robot>
